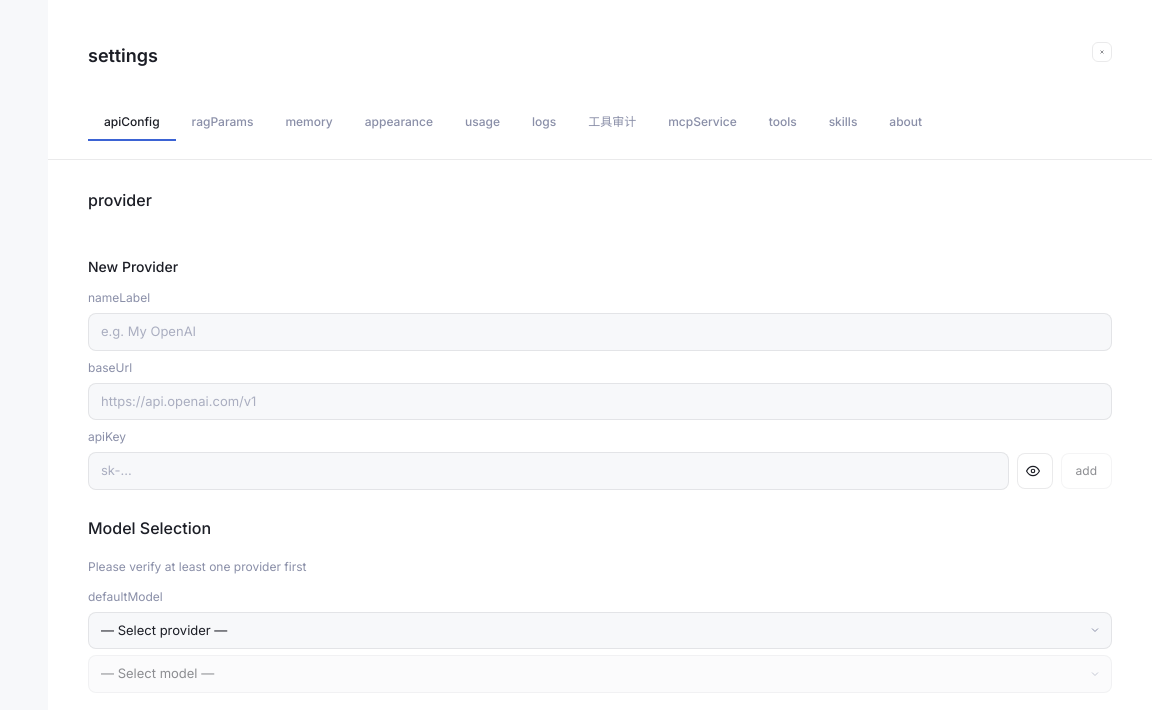
SettingsPage provider verification feedback › shows automatic verification failures after creating a provider
Type "New provider" into the field with placeholder "e.g. My OpenAI" at (600, 332), box [88,313,1112,350]
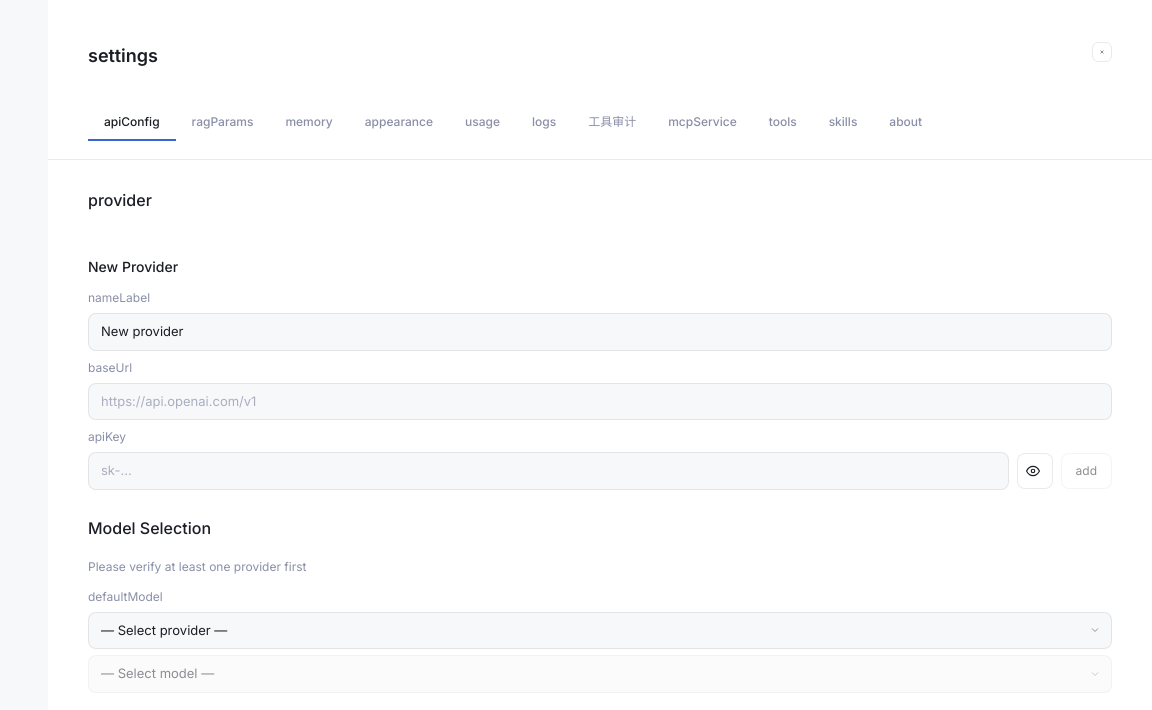
Type "https://new.example/v1" into the field with placeholder "https://api.openai.com/v1" at (600, 401), box [88,382,1112,420]
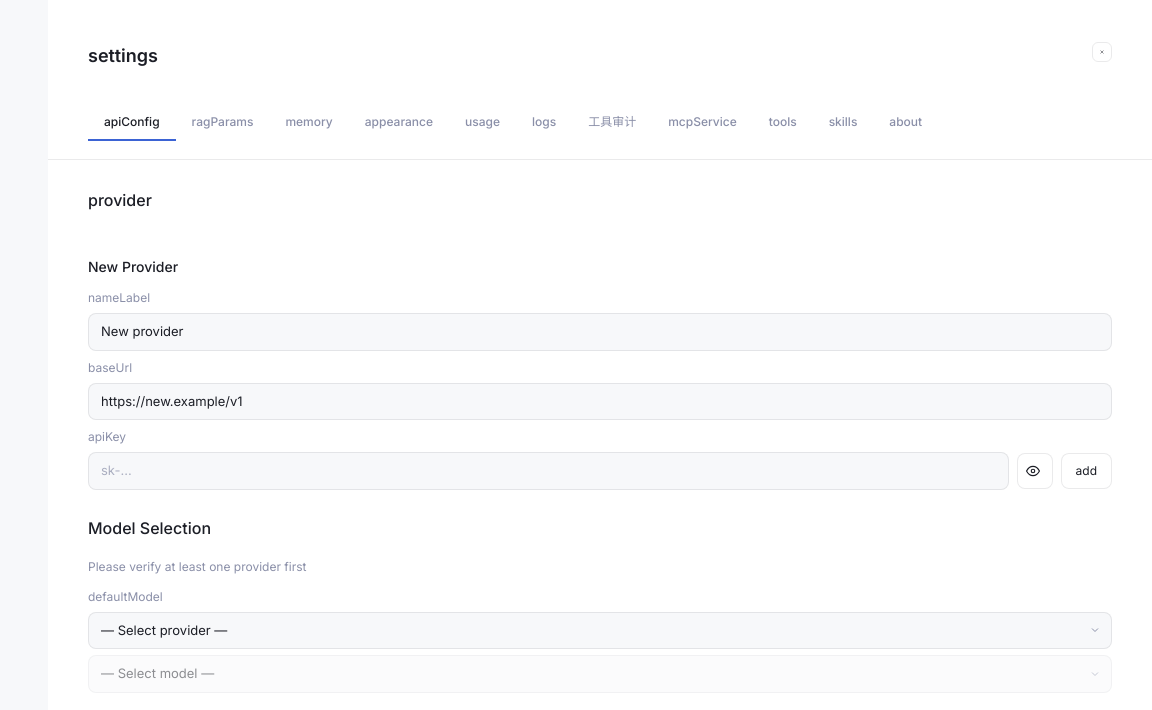
Type "new-provider-key" into the password field with placeholder "sk-..." at (548, 471), box [88,452,1009,490]
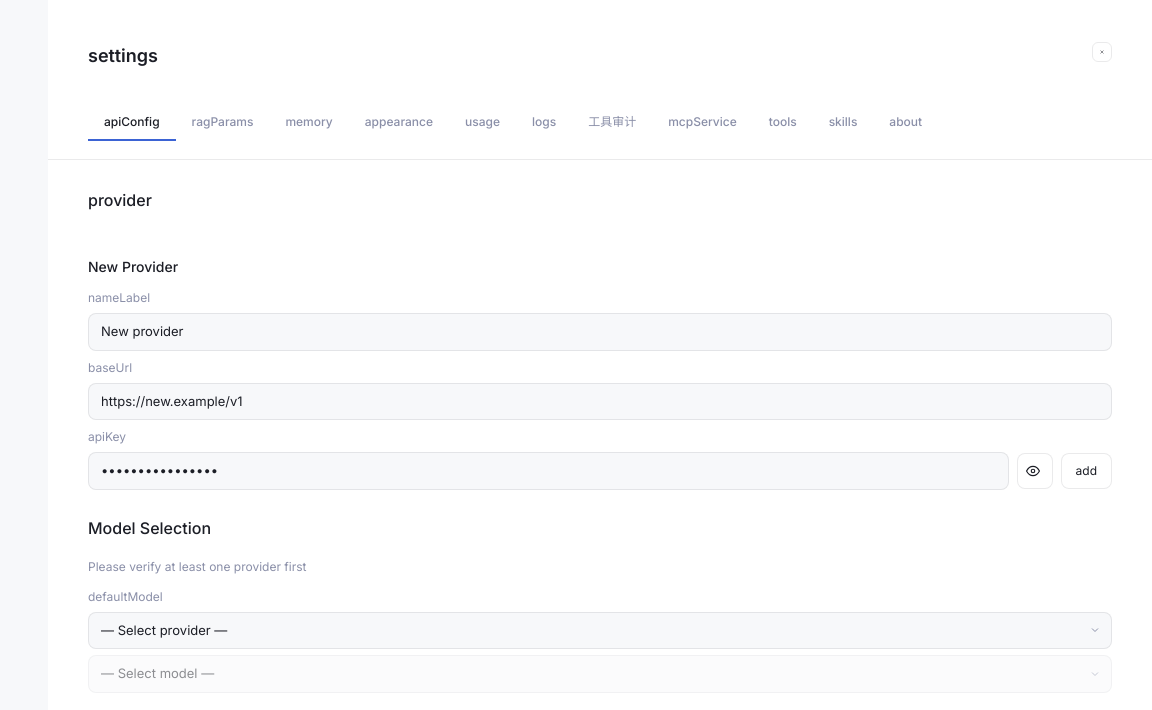
Click the button "add" at (1086, 471), box [1061,453,1112,489]
(page scrolled)
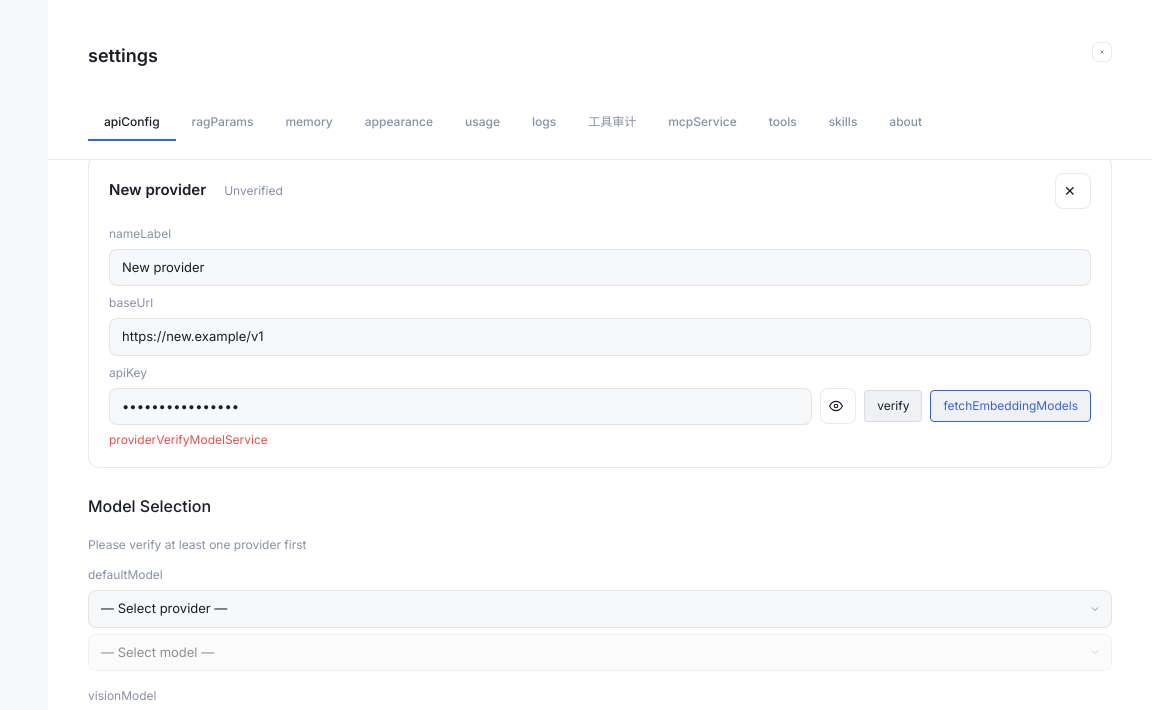
Check: the text "providerVerifyModelService" is shown, box [109,432,268,447]
